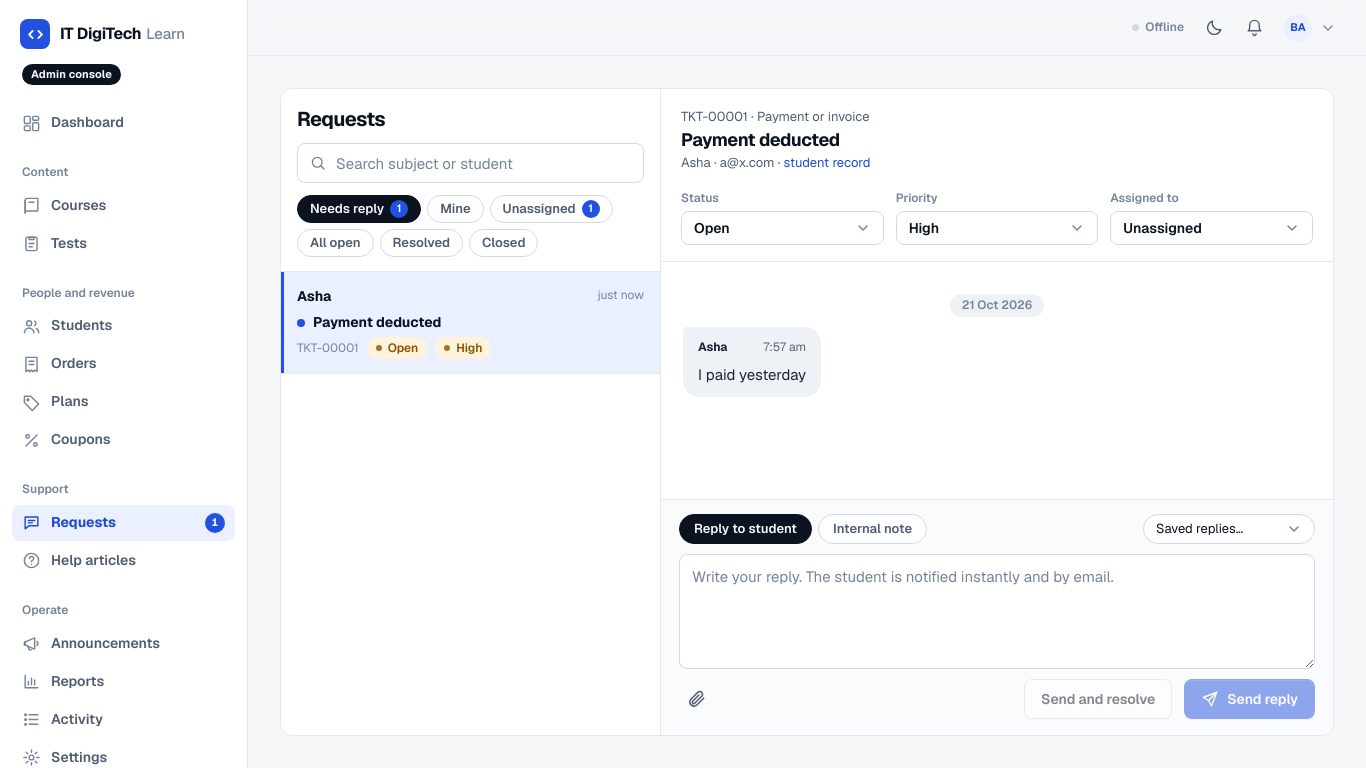
admin console › shows the inbox and opens a conversation
The width and height of the screenshot is (1366, 768).
Check: the text "Payment deducted" is shown, box left=297, top=313, right=441, bottom=331
Check: the text "I paid yesterday" is shown, box left=698, top=363, right=806, bottom=386
Click the tab "Internal note".
click(872, 529)  # box left=818, top=514, right=927, bottom=544
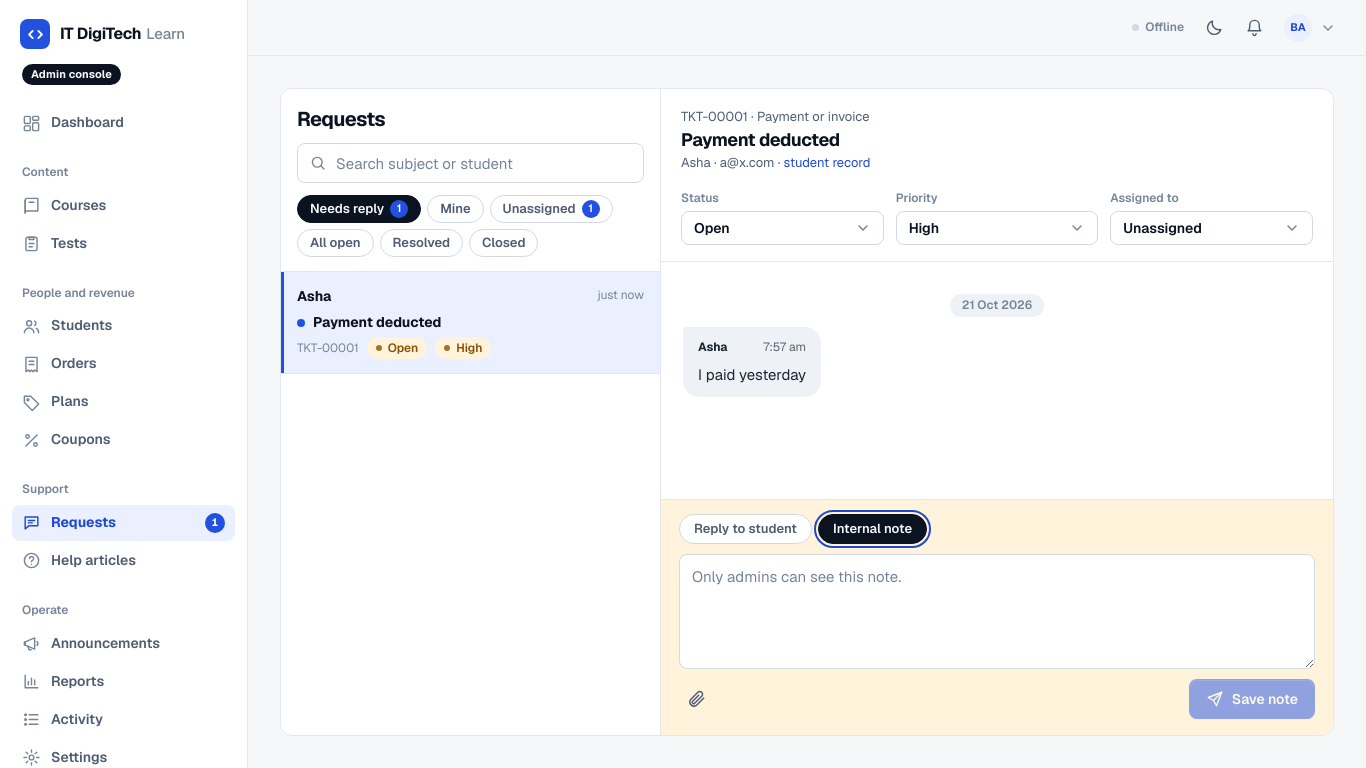
Check: the text box with placeholder "Only admins can see this note." is shown, box left=679, top=554, right=1315, bottom=669
